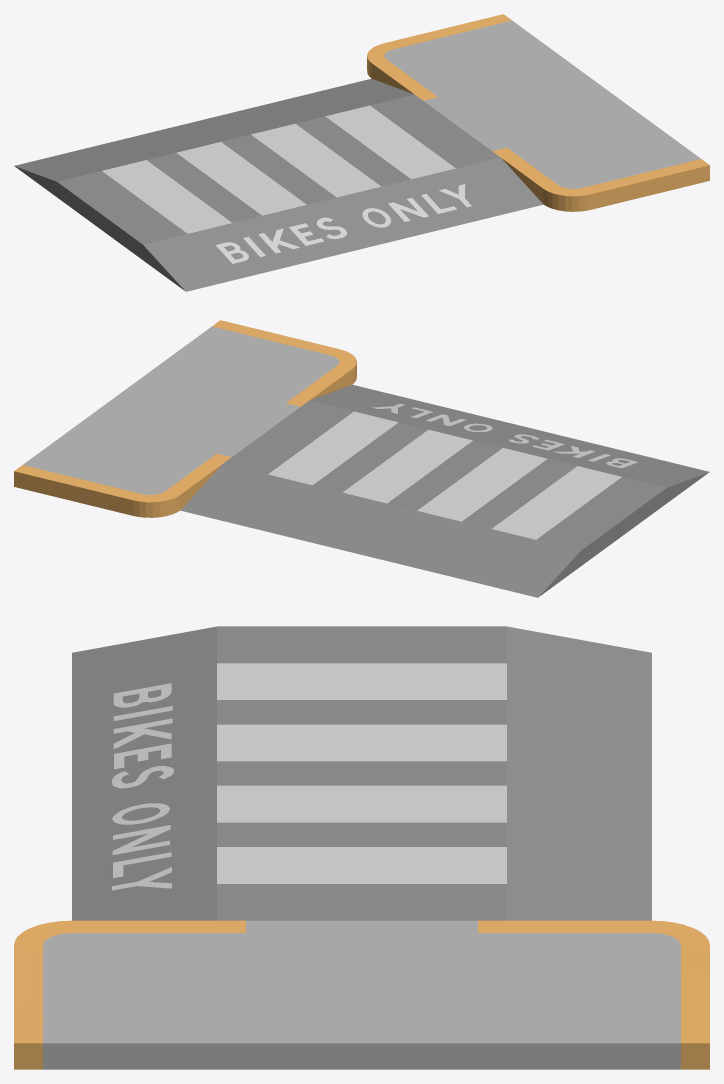
File: curb-extension-with-crosswalk.glb
3 views of the same model, one above another, from view 1: azimuth 30°, elevation 25°; view 2: azimuth 150°, elevation 25°; view 3: azimuth 270°, elevation 25° (orthographic). The views are drawn at different scales.
Parts seen in each view (by area): view 1: curb-extension-with-crosswalk; view 2: curb-extension-with-crosswalk; view 3: curb-extension-with-crosswalk.
Boxes of the visible parts, x1=… form: curb-extension-with-crosswalk: x1=14, y1=14, x2=709, y2=291; curb-extension-with-crosswalk: x1=14, y1=320, x2=709, y2=597; curb-extension-with-crosswalk: x1=14, y1=626, x2=709, y2=1069.
Bounding box in the file's own units: 7.24 × 0.2129 × 5.11.
Materials: 1 (1 with a texture image).
